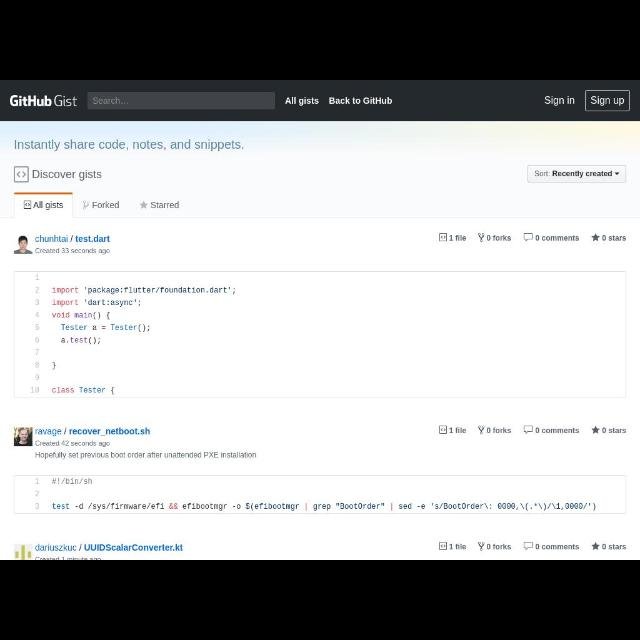icon: (13, 165, 29, 182), (438, 232, 448, 242), (523, 232, 533, 242), (22, 200, 32, 208), (82, 200, 90, 210), (438, 426, 448, 434), (523, 426, 533, 434), (438, 542, 448, 550), (523, 542, 533, 550), (592, 542, 600, 552), (140, 201, 148, 209), (592, 234, 600, 242), (592, 426, 600, 434), (477, 542, 485, 550), (478, 425, 484, 435), (478, 234, 484, 242), (614, 171, 620, 175)
image: (13, 427, 32, 447), (13, 236, 33, 254), (13, 544, 33, 558)
input: (87, 93, 275, 109)
spinner: (528, 165, 626, 182)
text: (31, 274, 236, 396), (34, 478, 596, 512), (14, 139, 244, 153), (35, 450, 257, 460), (34, 544, 184, 552), (36, 428, 150, 437), (9, 94, 77, 108), (32, 170, 102, 180), (535, 170, 613, 178), (35, 235, 111, 243), (36, 247, 110, 255), (36, 440, 110, 448), (328, 97, 392, 105), (591, 95, 625, 107), (284, 96, 320, 106), (544, 95, 576, 106), (536, 234, 580, 242), (92, 96, 130, 104), (34, 201, 64, 211), (536, 428, 580, 434), (535, 544, 579, 550), (92, 201, 120, 209), (486, 543, 512, 551), (487, 234, 511, 242), (602, 234, 626, 242), (150, 202, 180, 208), (486, 428, 512, 434), (449, 426, 467, 434), (602, 427, 626, 433), (602, 544, 626, 550), (449, 234, 466, 242), (449, 544, 467, 550)
textbutton: (585, 90, 631, 110)
